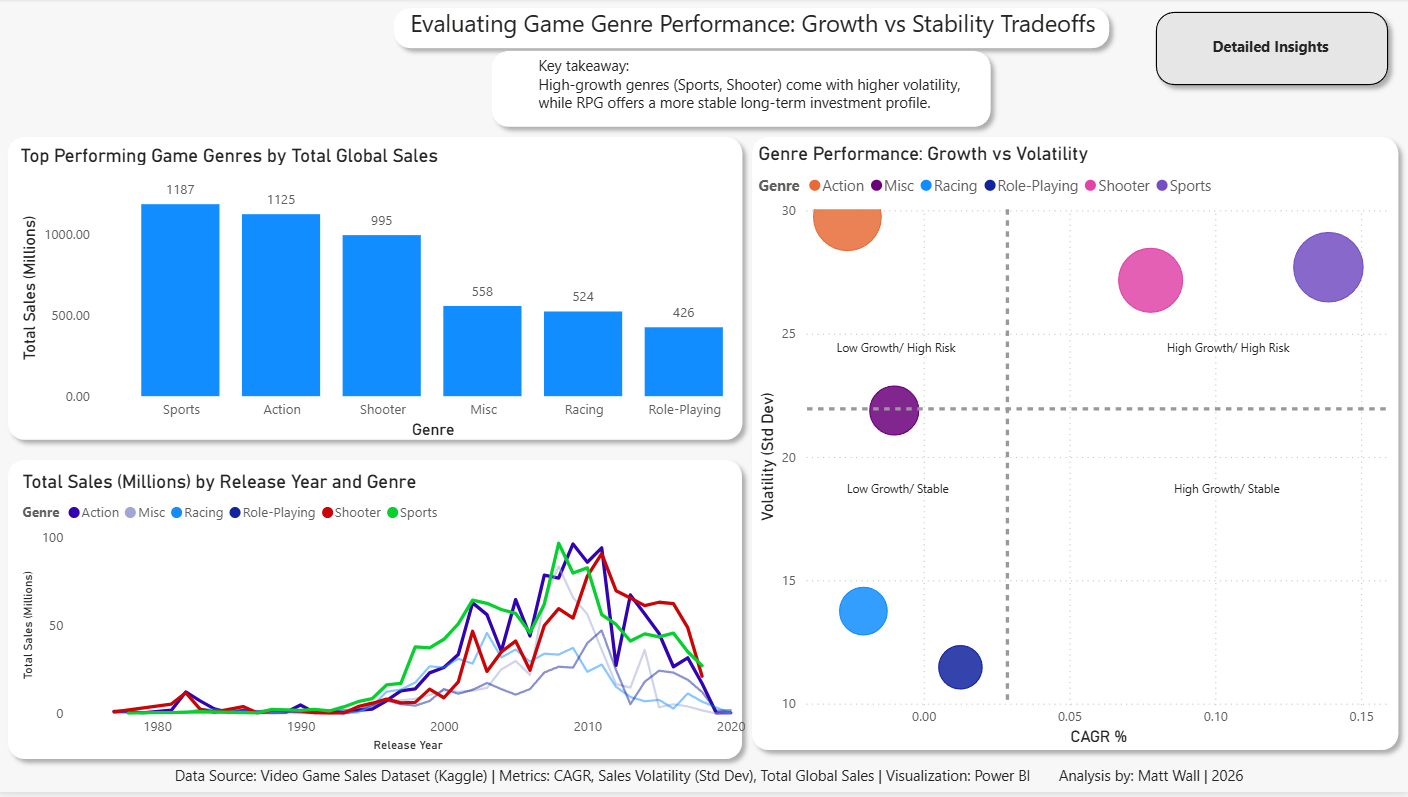

The page's visual inventory and layout, read from the dashboard file:
{"tool":"powerbi","page":{"name":"Page 1","canvas":[1280,720],"ordinal":0},"visuals":[{"type":"shape","title":"Background","box":[0.9,0,1279.2,719.6],"z":0,"group":"g9"},{"type":"shape","box":[350.2,0,666.8,54.4],"z":0},{"type":"shape","title":"Detailed Insights","box":[1041,4,228.6,84.4],"z":0,"group":"g7"},{"type":"shape","box":[439,38.6,470.4,86.8],"z":0,"group":"g5"},{"type":"shape","box":[27.3,51.7,537.9,293.8],"z":0,"group":"g10"},{"type":"shape","box":[641.4,53.5,537.9,293],"z":0,"group":"g8"},{"type":"shape","title":"Volatility Shape","box":[674.9,117,604.4,574.2],"z":0,"group":"g1"},{"type":"shape","title":"Bar Shape","box":[0,117.4,684.2,292.7],"z":0,"group":"g2"},{"type":"shape","box":[636.9,372.8,537.9,293],"z":0,"group":"g3"},{"type":"shape","box":[26.4,373.3,538.3,293],"z":0,"group":"g6"},{"type":"shape","title":"Line Shape","box":[0,410,684,289.4],"z":0,"group":"g4"},{"type":"textbox","box":[1090,30,127.9,47.2],"z":1000,"group":"g7"},{"type":"textbox","title":"Insights","box":[485.6,46.6,398,70.8],"z":1000,"group":"g5"},{"type":"textbox","title":"Insights 1","box":[57.9,71.9,540.7,305.7],"z":1000,"group":"g10"},{"type":"textbox","title":"Insights 2","box":[677.3,79.1,531.6,260.4],"z":1000,"group":"g8"},{"type":"group","id":"g1","title":"Volatility Chart","box":[674.9,117,605.1,574.2],"z":1000},{"type":"scatterChart","title":"Genre Performance: Growth vs Volatility","fields":{"Y":["fact_game_sales.Volatility (Std Dev)"],"Size":["fact_game_sales.Total Sales (Millions)"],"Category":["fact_game_sales.genre"],"X":["fact_game_sales.CAGR %"],"Series":["fact_game_sales.genre"]},"box":[684.9,130.2,595.1,552.8],"z":1000,"group":"g1"},{"type":"clusteredColumnChart","title":"Top Performing Game Genres by Total Global Sales","fields":{"Y":["fact_game_sales.Total Sales"],"Category":["fact_game_sales.genre"]},"box":[15.3,132.7,685.8,271.8],"z":1000,"group":"g2"},{"type":"textbox","title":"Insights 1","box":[66,353.1,558.8,293],"z":1000,"group":"g6"},{"type":"textbox","title":"Conclusion","box":[673.3,387.5,437.3,229.5],"z":1000,"group":"g3"},{"type":"lineChart","fields":{"Category":["fact_game_sales.release_year"],"Y":["fact_game_sales.Total Sales (Millions)"],"Series":["fact_game_sales.genre"]},"box":[17.7,428.3,665.5,259.9],"z":1000,"group":"g4"},{"type":"shape","box":[0.9,4,1279.2,715.6],"z":2000,"group":"g9"},{"type":"group","id":"g2","title":"Bar Chart","box":[0,117.4,701.1,292.7],"z":2000},{"type":"textbox","box":[741.1,430,150.2,33],"z":2000,"group":"g1"},{"type":"group","id":"g3","title":"Conclusion","box":[636.9,372.8,537.9,293],"z":2500,"group":"g9"},{"type":"textbox","title":"Insights Title","box":[514.4,6.4,193.2,63.5],"z":3000,"group":"g9"},{"type":"textbox","box":[737.6,302,154.2,33.6],"z":3000,"group":"g1"},{"type":"group","id":"g4","title":"Line Chart","box":[0,410,684,289.4],"z":3000},{"type":"group","id":"g5","title":"Takeway","box":[439,38.6,470.4,86.8],"z":4000},{"type":"textbox","box":[1039.8,430,150.2,33],"z":4000,"group":"g1"},{"type":"textbox","title":"Title","box":[361.8,2.4,645.6,52.3],"z":5000},{"type":"textbox","title":"HG/HR ","box":[1040.6,302,150.6,33.6],"z":5000,"group":"g1"},{"type":"group","id":"g6","title":"Insights 3","box":[26.4,353.1,598.4,313.2],"z":6000,"group":"g9"},{"type":"textbox","box":[26.3,691.3,1237.4,28.1],"z":6000},{"type":"group","id":"g7","title":"Insights Button","box":[1041,4,228.6,84.4],"z":7000},{"type":"group","id":"g8","title":"Insights 2","box":[641.4,53.5,567.9,293],"z":7000,"group":"g9"},{"type":"group","id":"g9","title":"Insights","box":[0.9,0,1279.2,719.6],"z":8000},{"type":"group","id":"g10","title":"Insights 1","box":[27.3,51.7,571.2,325.9],"z":8000,"group":"g9"},{"type":"image","title":"Close button","box":[1178.5,6.4,46.3,63.5],"z":9000,"group":"g9"}]}

Visuals, with their boxes in screenshot pixels (x1, y1, x2, y2), scaled from the page's 1280x720 canvas onto the 1408x797 screenshot:
"Background" shape: crop(1, 0, 1407, 796)
shape: crop(385, 0, 1119, 60)
"Detailed Insights" shape: crop(1145, 4, 1397, 98)
shape: crop(483, 43, 1000, 139)
shape: crop(30, 57, 622, 382)
shape: crop(706, 59, 1297, 384)
"Volatility Shape" shape: crop(742, 130, 1407, 765)
"Bar Shape" shape: crop(0, 130, 753, 454)
shape: crop(701, 413, 1292, 737)
shape: crop(29, 413, 621, 738)
"Line Shape" shape: crop(0, 454, 752, 774)
textbox: crop(1199, 33, 1340, 85)
"Insights" textbox: crop(534, 52, 972, 130)
"Insights 1" textbox: crop(64, 80, 658, 418)
"Insights 2" textbox: crop(745, 88, 1330, 376)
"Volatility Chart" group: crop(742, 130, 1407, 765)
"Genre Performance: Growth vs Volatility" scatterChart: crop(753, 144, 1407, 756)
"Top Performing Game Genres by Total Global Sales" clusteredColumnChart: crop(17, 147, 771, 448)
"Insights 1" textbox: crop(73, 391, 687, 715)
"Conclusion" textbox: crop(741, 429, 1222, 683)
lineChart - fact_game_sales.release_year x fact_game_sales.Total Sales (Millions): crop(19, 474, 752, 762)
shape: crop(1, 4, 1407, 796)
"Bar Chart" group: crop(0, 130, 771, 454)
textbox: crop(815, 476, 980, 513)
"Conclusion" group: crop(701, 413, 1292, 737)
"Insights Title" textbox: crop(566, 7, 778, 77)
textbox: crop(811, 334, 981, 371)
"Line Chart" group: crop(0, 454, 752, 774)
"Takeway" group: crop(483, 43, 1000, 139)
textbox: crop(1144, 476, 1309, 513)
"Title" textbox: crop(398, 3, 1108, 61)
"HG/HR " textbox: crop(1145, 334, 1310, 371)
"Insights 3" group: crop(29, 391, 687, 738)
textbox: crop(29, 765, 1390, 796)
"Insights Button" group: crop(1145, 4, 1397, 98)
"Insights 2" group: crop(706, 59, 1330, 384)
"Insights" group: crop(1, 0, 1407, 796)
"Insights 1" group: crop(30, 57, 658, 418)
"Close button" image: crop(1296, 7, 1347, 77)
